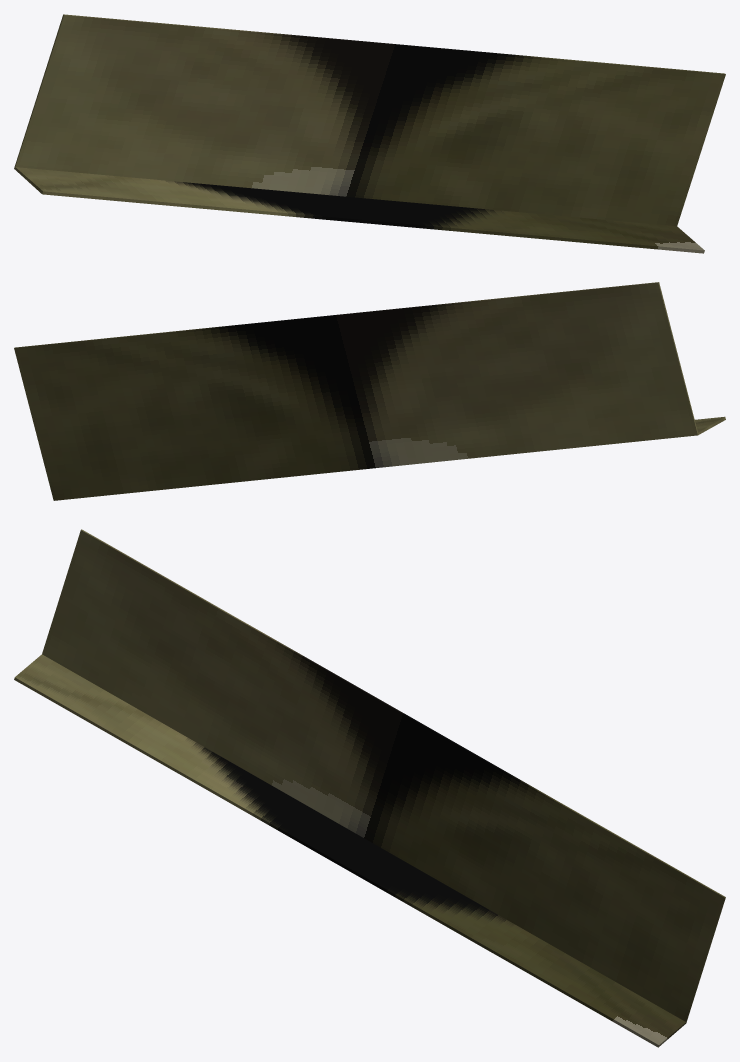
The model's file is pack_roll.glb.
The picture shows the model from 3 angles, top to bottom: view 1: azimuth 30°, elevation 25°; view 2: azimuth 150°, elevation 25°; view 3: azimuth 330°, elevation 25°; orthographic projection. The views are drawn at different scales.
Parts seen in each view (by area): view 1: pack_roll; view 2: pack_roll; view 3: pack_roll.
Part boxes in pixels (left/top/right/bottom): pack_roll: left=14, top=14, right=725, bottom=253; pack_roll: left=14, top=282, right=725, bottom=500; pack_roll: left=14, top=529, right=725, bottom=1047.
Bounding box in the file's own units: 0.769 × 0.3884 × 0.0657.
Materials: 1 (1 with a texture image).
